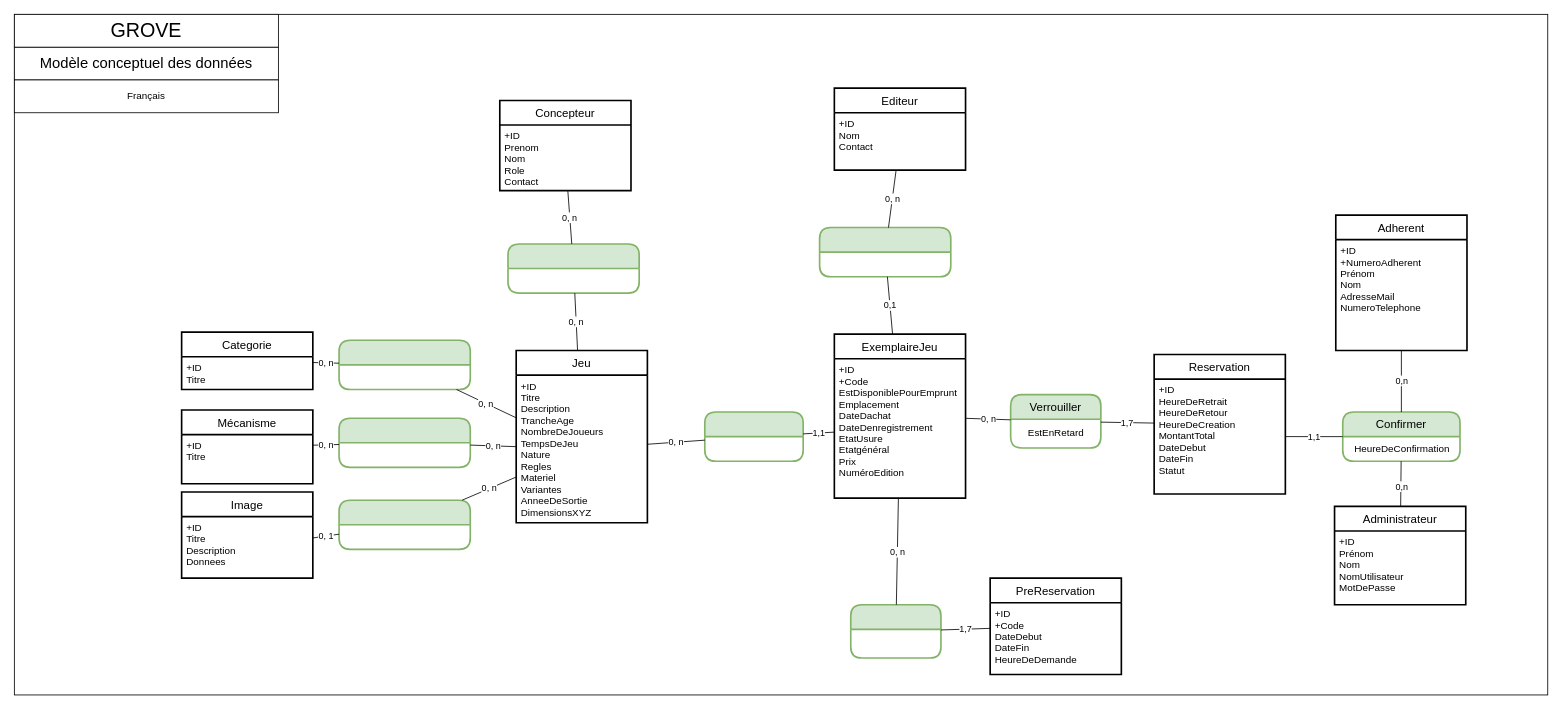
Image size: 1562x709. Some labels were removed from this diagram. Each missing label, with the centre of its shape:
Associer: pixel 895 631
Avoir_I: pixel 404 364
Avoir_II: pixel 404 442
Concevoir: pixel 573 268
Illustrer: pixel 404 524
Instancier: pixel 754 436
Publier: pixel 884 251
